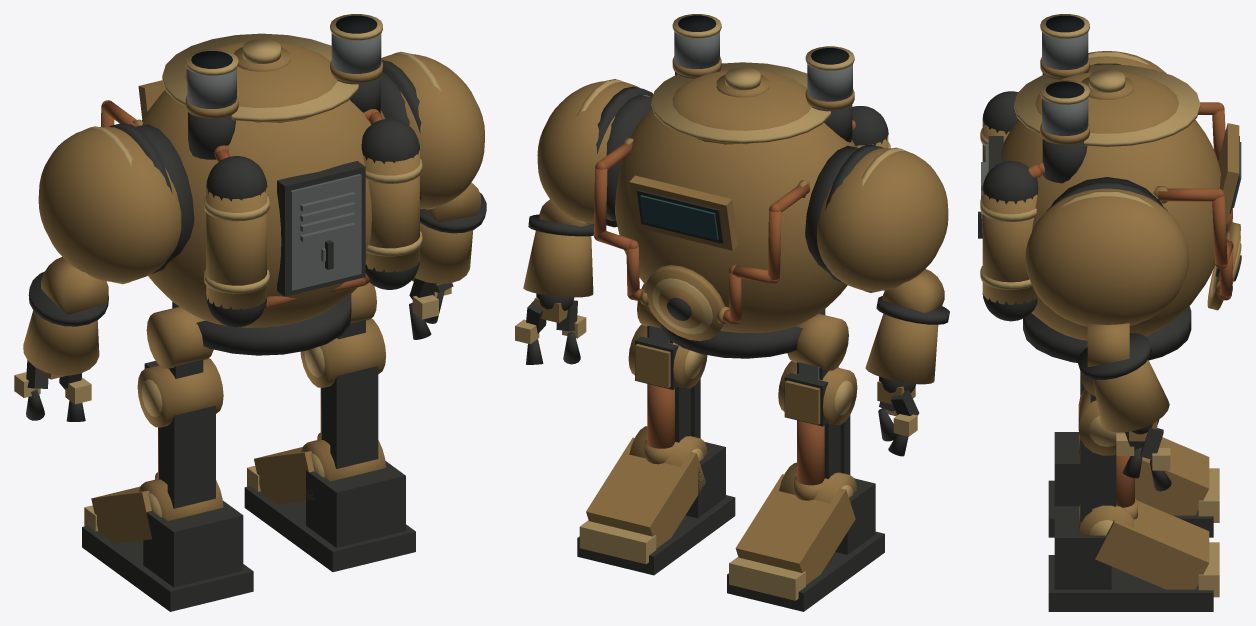
The picture shows the model from 3 angles, left to right: view 1: azimuth 30°, elevation 25°; view 2: azimuth 150°, elevation 25°; view 3: azimuth 270°, elevation 25°; orthographic projection. The views are drawn at different scales.
Bounding box in the file's own units: 3.22 × 3.67 × 1.76.
